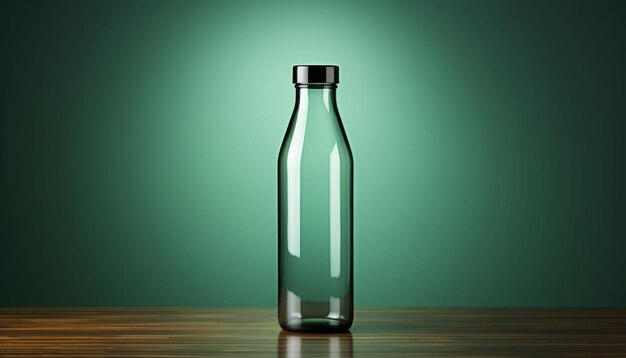glass_bottle: (266, 55, 367, 338)
